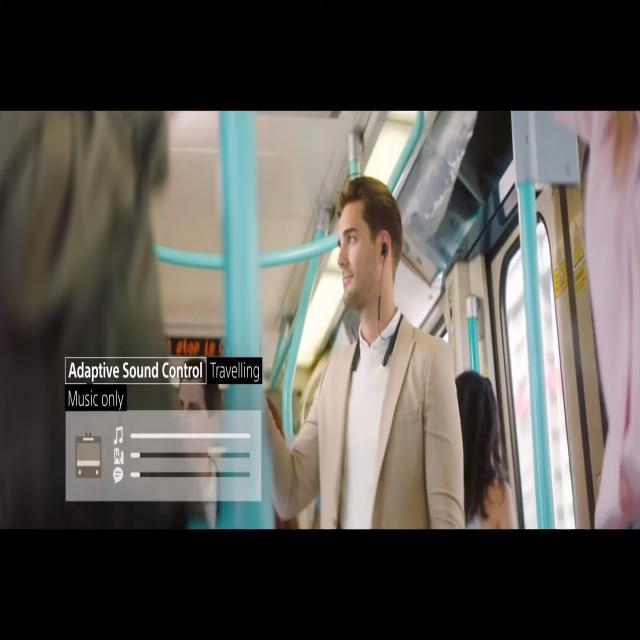Neckband: (348, 241, 404, 373)
